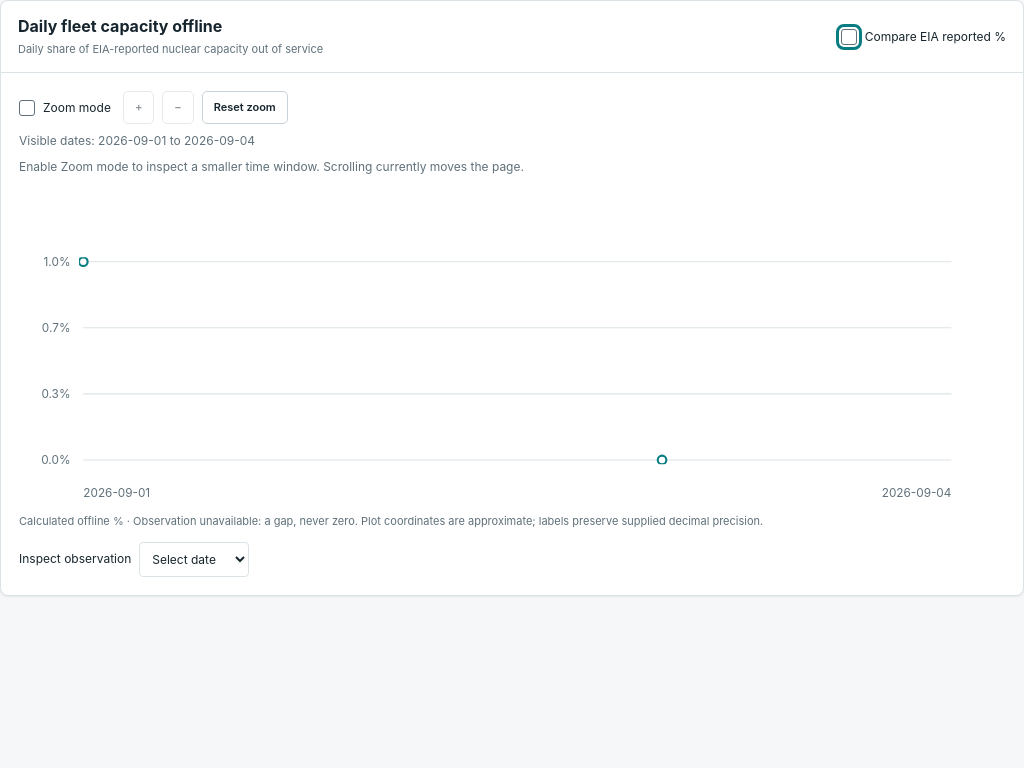
Test case: Overview exact observation behavior › supports keyboard comparison and exact accessible tooltip/table alternative
Type keys " "
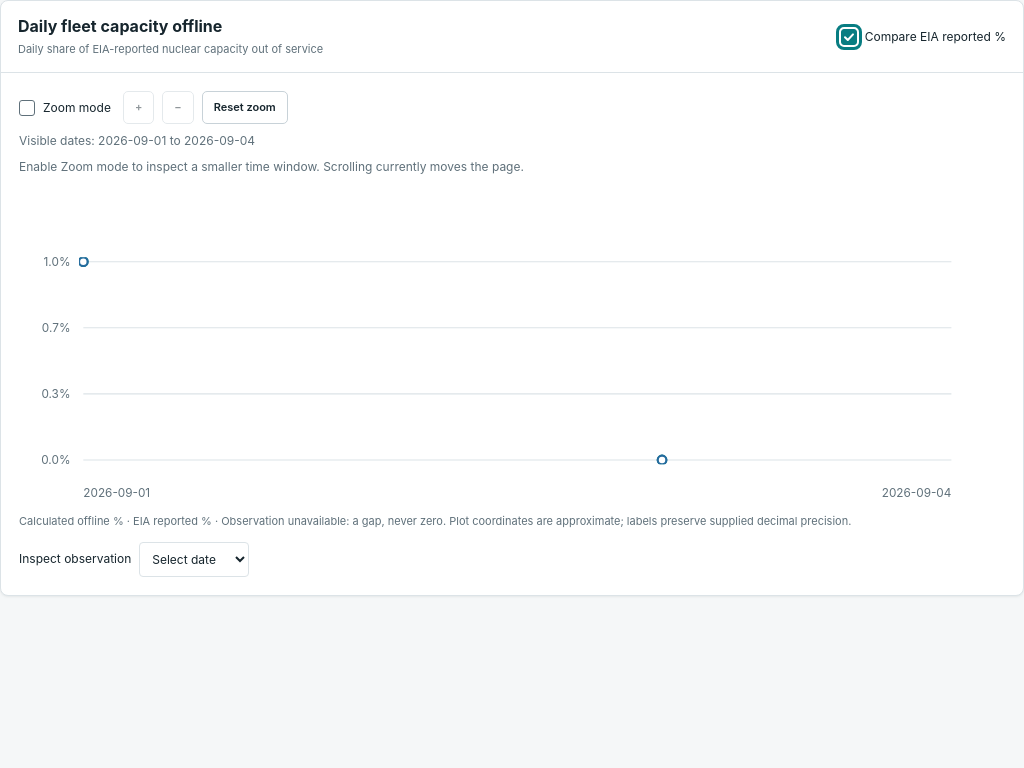
expect the checkbox labelled "Compare EIA reported %" is checked: met, box [841,29,857,45]
Select "2026-09-01" in the dropdown labelled "Inspect observation" at (194, 559), box [139,542,249,577]
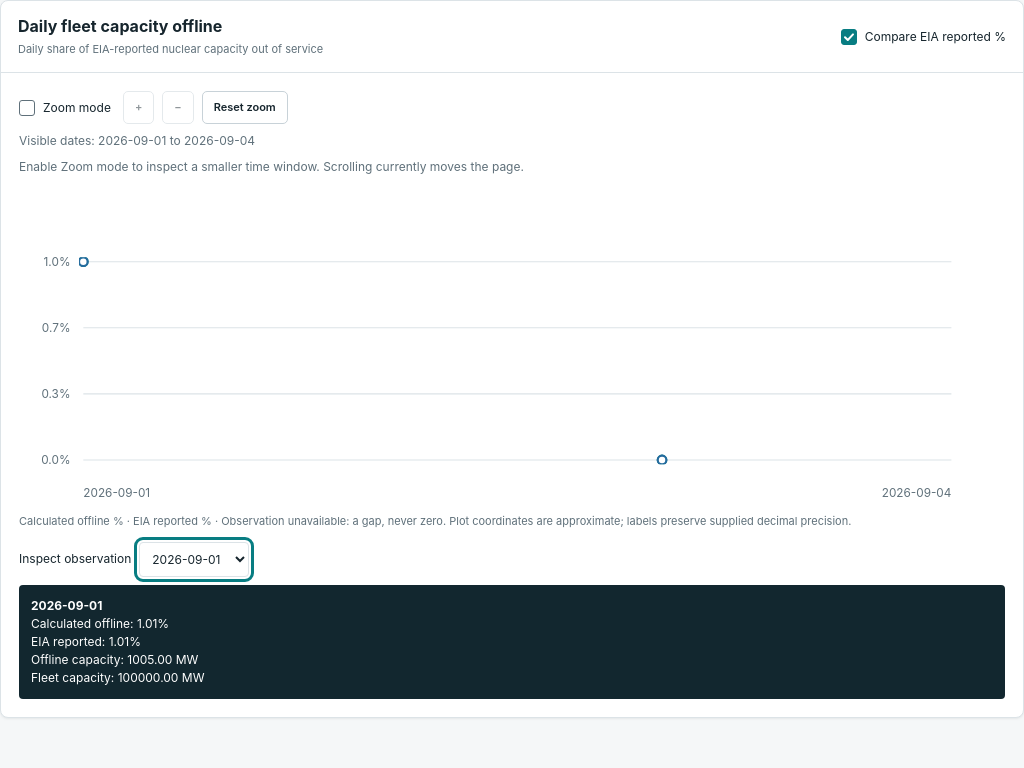
expect the text "Calculated offline: 1.01%" is shown: met, box [31,616,169,631]
expect the text "EIA reported: 1.01%" is shown: met, box [31,634,141,649]
Select "2026-09-03" in the dropdown labelled "Inspect observation" at (194, 559), box [139,542,249,577]
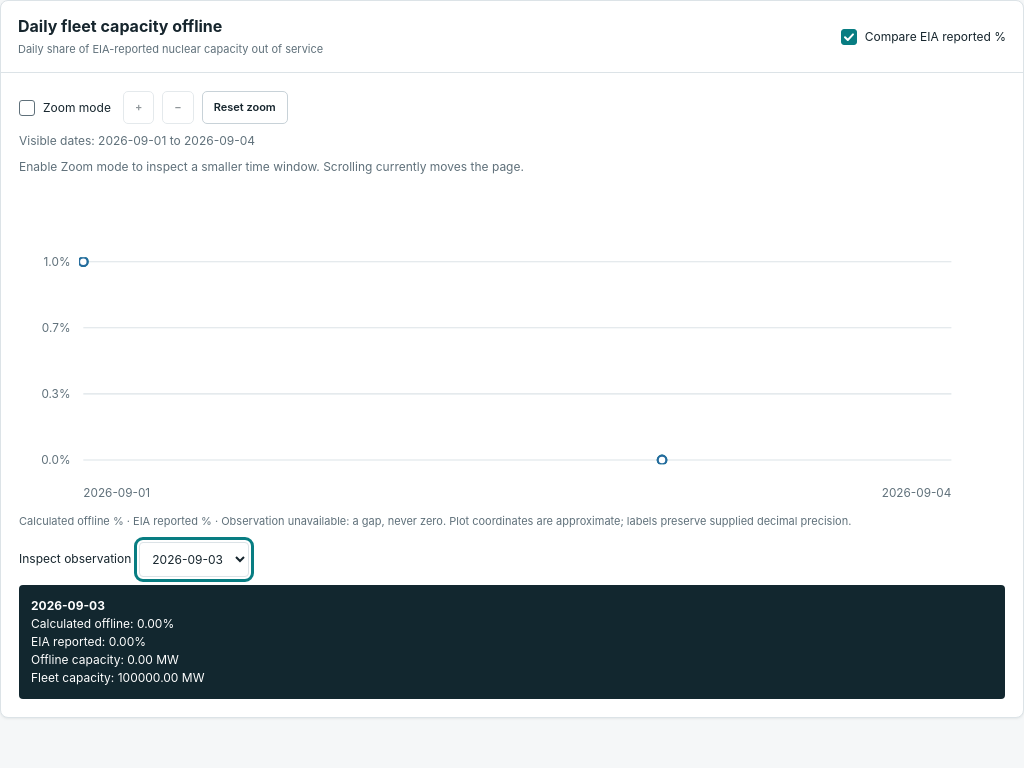
expect the text "Calculated offline: 0.00%" is shown: met, box [31,616,174,631]
